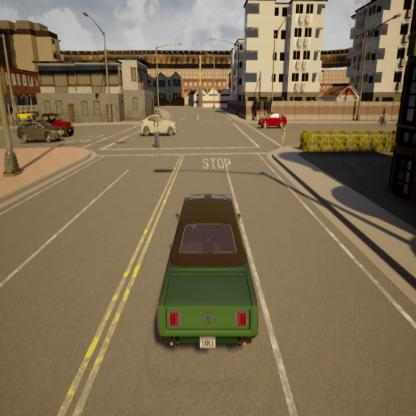Cars: (153, 190, 264, 365), (17, 115, 67, 142), (35, 110, 72, 143), (138, 112, 175, 138), (257, 107, 291, 128), (17, 108, 38, 121)
Pedestrian: (281, 120, 287, 152)
